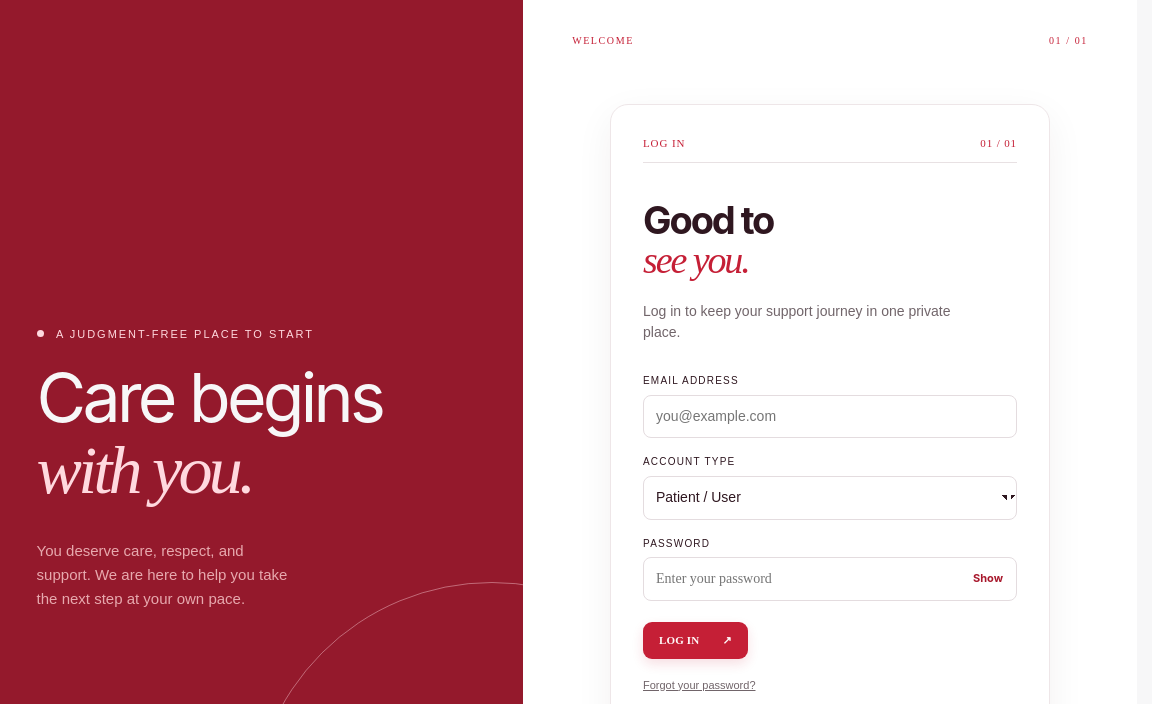
health workers can confirm and complete patient appointment requests
Select "Health Worker" in the dropdown labelled "Account type" at [830, 498], box [643, 476, 1017, 520]
Type "evelyn@risinghiv.org" into the field labelled "Email Address" at [830, 417], box [643, 395, 1017, 438]
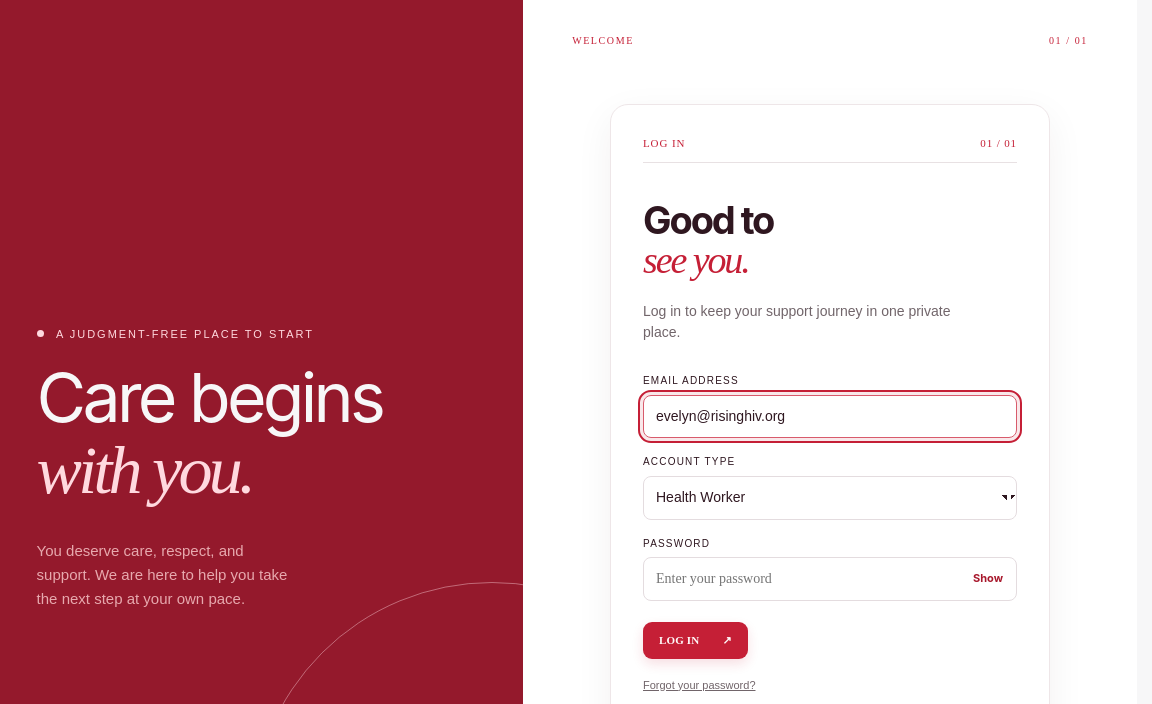
Type "password" into the password field labelled "Password" at [830, 579], box [643, 557, 1017, 601]
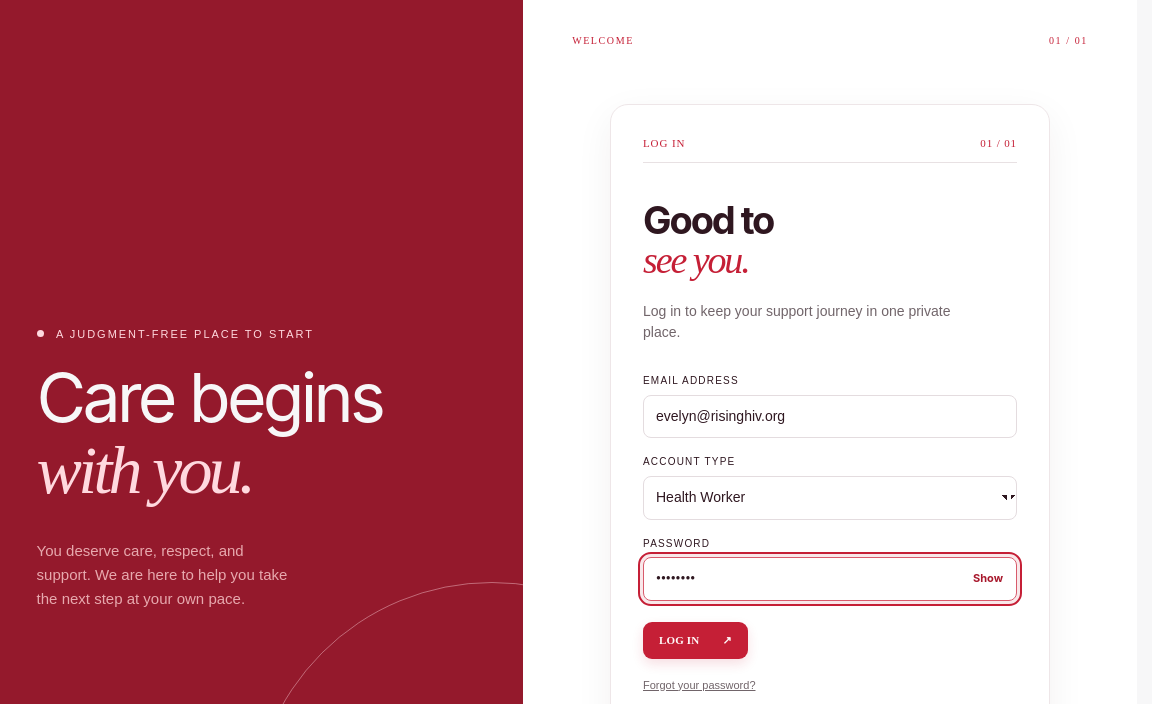
Click the button "Log in ↗" at [695, 640], box [643, 622, 748, 659]
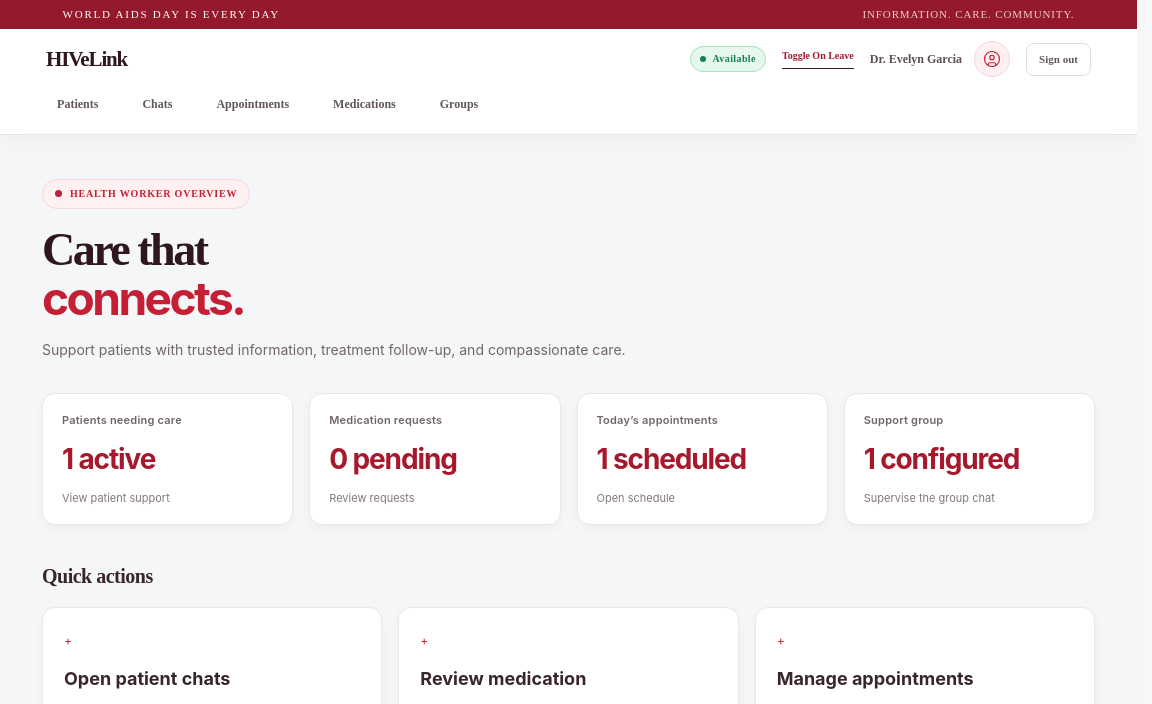
Click the button "Appointments" at [253, 104], box [205, 87, 300, 122]
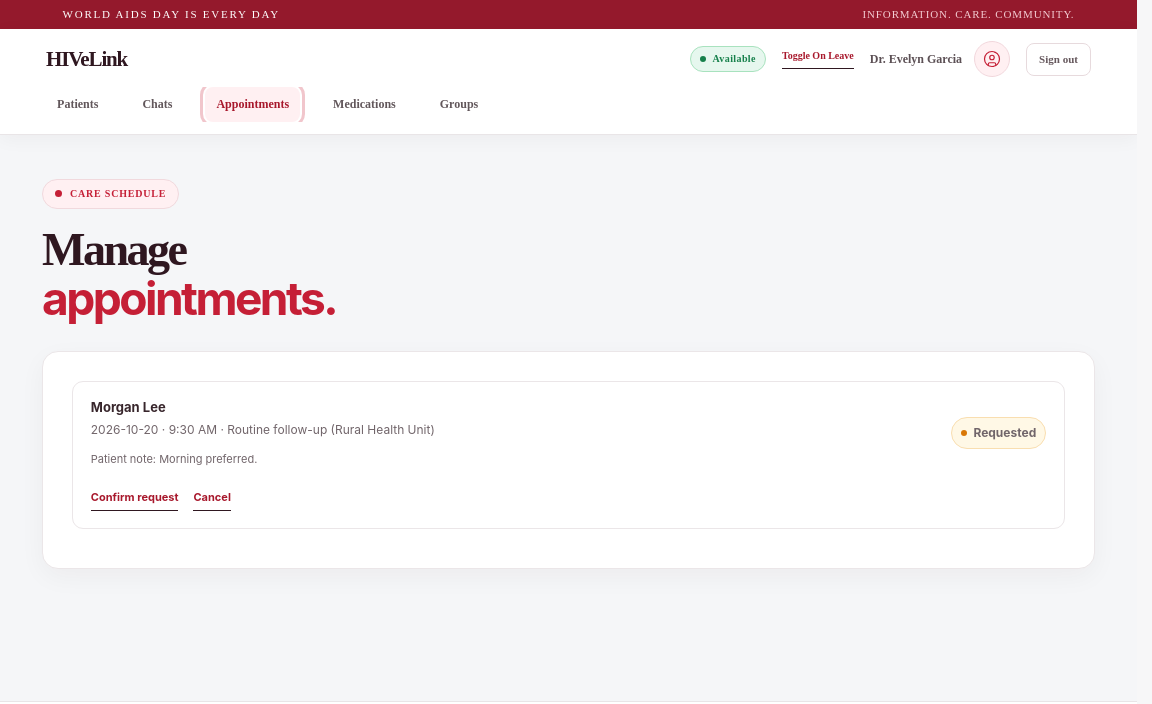
Check: the text "Patient note: Morning preferred." is shown, box [91, 452, 257, 466]
Check: the text "Requested" is shown, box [973, 424, 1036, 442]
Click the button "Confirm request" at [135, 500], box [91, 490, 178, 511]
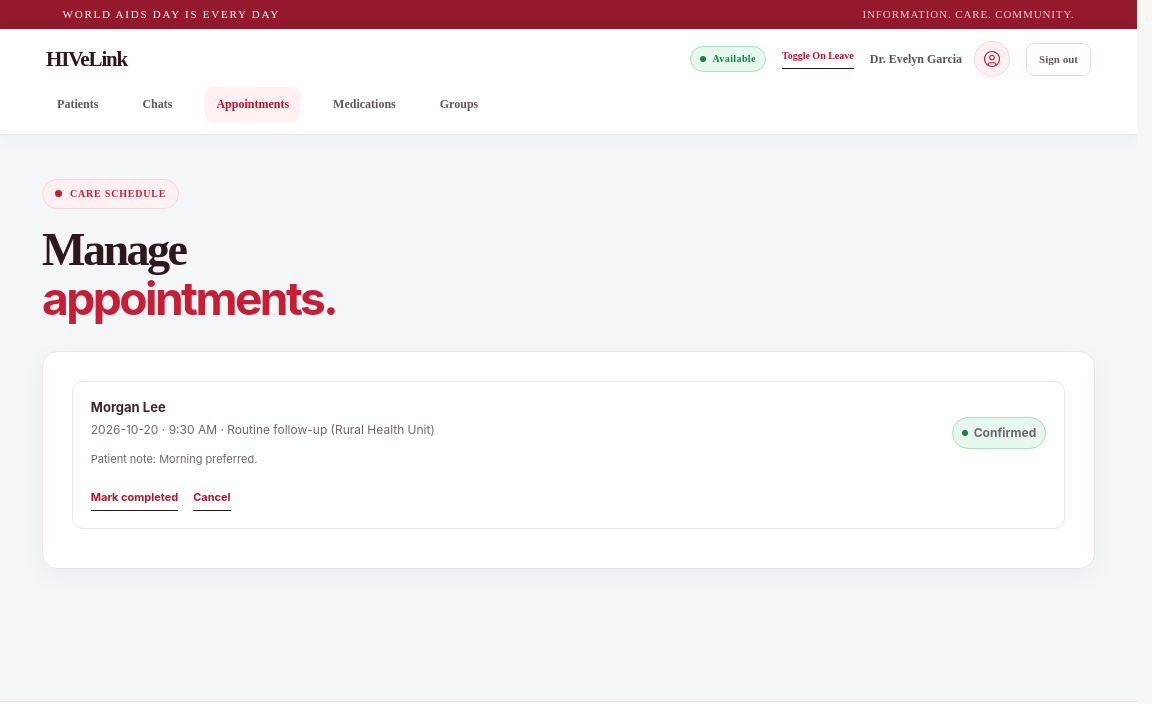
Check: the text "Requested" reads "Confirmed", box [974, 425, 1036, 440]
Click the button "Mark completed" at [134, 500], box [91, 490, 178, 511]
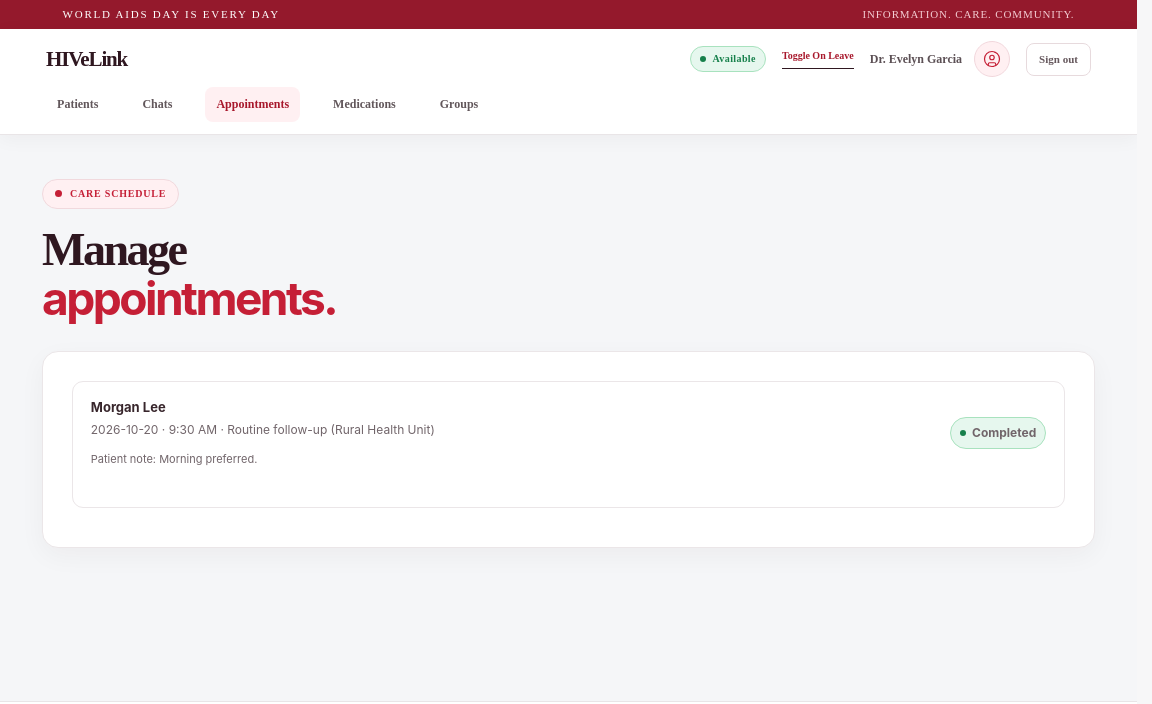
Check: the text "Requested" reads "Completed", box [972, 425, 1036, 440]
